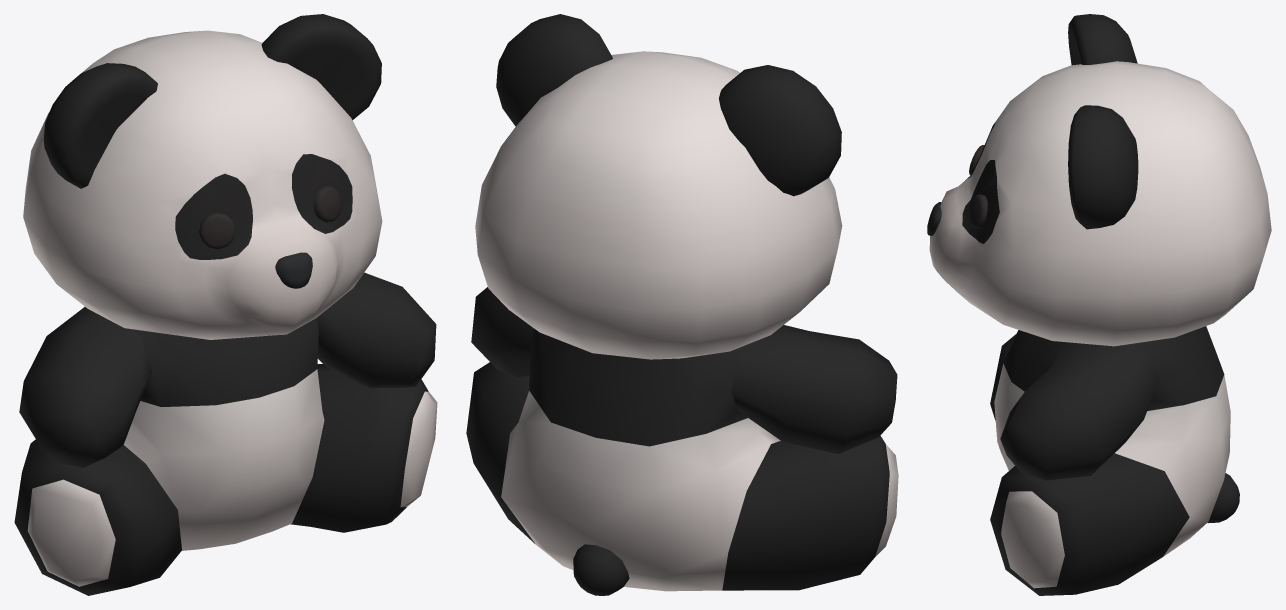
File: Panda_01.fbx
The picture shows the model from 3 angles, left to right: view 1: azimuth 30°, elevation 25°; view 2: azimuth 150°, elevation 25°; view 3: azimuth 270°, elevation 25°; orthographic projection. The views are drawn at different scales.
Visible parts, largest first — view 1: Panda_01; view 2: Panda_01; view 3: Panda_01.
Part boxes in pixels (x1=…): Panda_01: x1=14, y1=14, x2=437, y2=595; Panda_01: x1=466, y1=14, x2=898, y2=595; Panda_01: x1=927, y1=14, x2=1271, y2=595.
Size of the model in its own units: 32.81 by 26.1 by 39.38.
